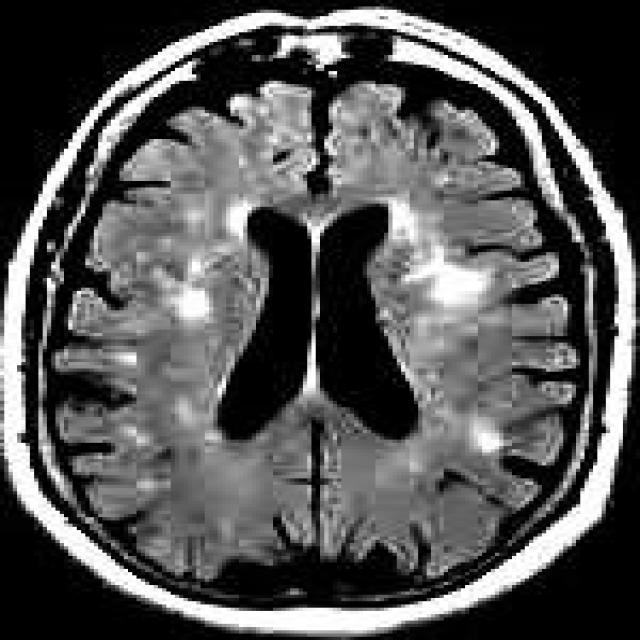notumor: (4, 0, 375, 259), (388, 378, 636, 637), (384, 0, 636, 252), (0, 482, 247, 637)
